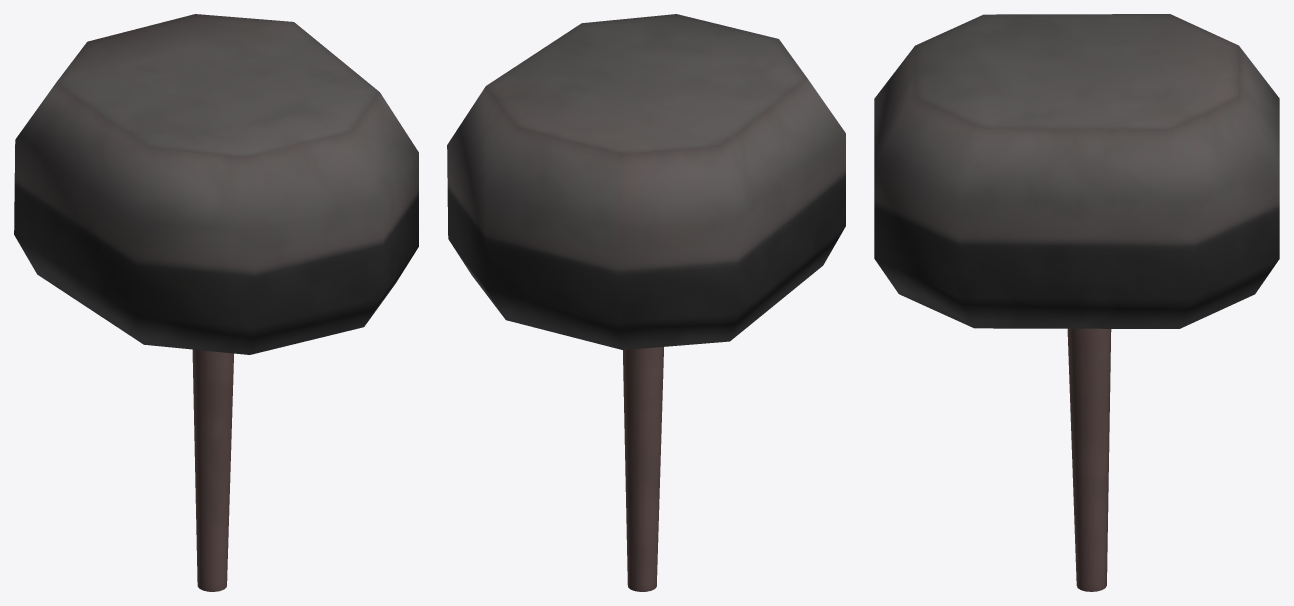
Rendered from motor botemovil.obj.
3 renders of one model, left to right at view 1: azimuth 30°, elevation 25°; view 2: azimuth 150°, elevation 25°; view 3: azimuth 270°, elevation 25°, orthographic. The views are drawn at different scales.
Parts seen in each view (by area): view 1: pCylinder10; view 2: pCylinder10; view 3: pCylinder10.
Part boxes in pixels (left/top/right/bottom): pCylinder10: left=14, top=14, right=418, bottom=591; pCylinder10: left=447, top=14, right=845, bottom=591; pCylinder10: left=874, top=14, right=1279, bottom=591.
Bounding box in the file's own units: 5.65 × 9.26 × 6.59.
